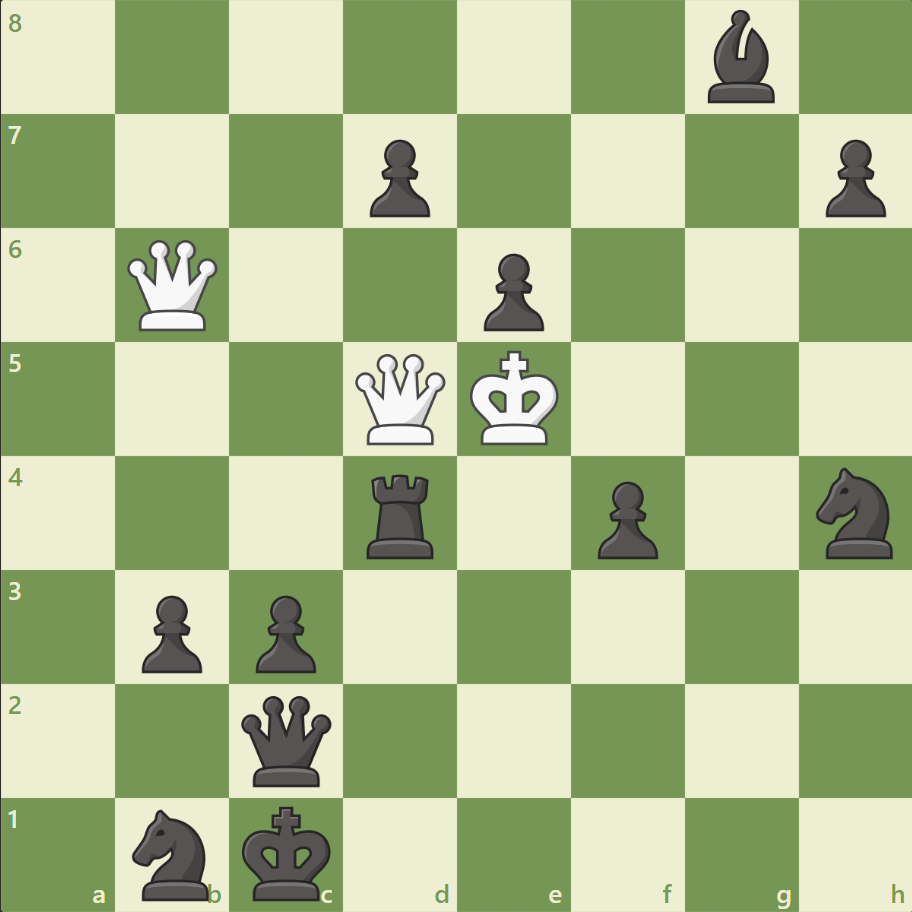K: (465, 344, 565, 452)
Q: (351, 349, 450, 449), (124, 236, 223, 335)
b: (698, 6, 782, 109)
k: (238, 798, 338, 906)
n: (124, 802, 222, 904), (806, 461, 903, 564)
p: (474, 246, 549, 337), (133, 586, 208, 677), (247, 586, 322, 677), (361, 132, 435, 223), (815, 132, 889, 223), (588, 473, 662, 564)
q: (237, 690, 336, 789)
r: (360, 466, 442, 563)
